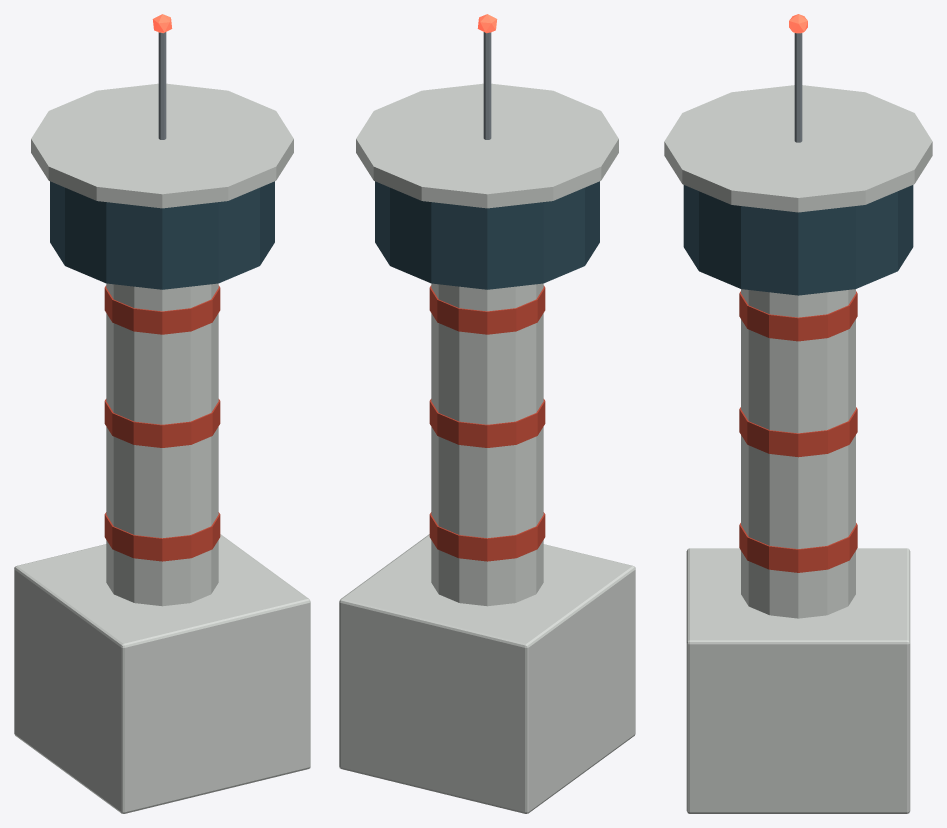
The model's file is tower.glb.
3 views of the same model, side by side, from view 1: azimuth 30°, elevation 25°; view 2: azimuth 150°, elevation 25°; view 3: azimuth 270°, elevation 25° (orthographic). The views are drawn at different scales.
Parts seen in each view (by area): view 1: Cube; view 2: Cube; view 3: Cube.
Boxes of the visible parts, bbox=[...] form: Cube: bbox=[14, 14, 310, 813]; Cube: bbox=[339, 14, 635, 813]; Cube: bbox=[664, 14, 932, 813].
Size of the model in its own units: 8.4 by 26.05 by 8.4.
